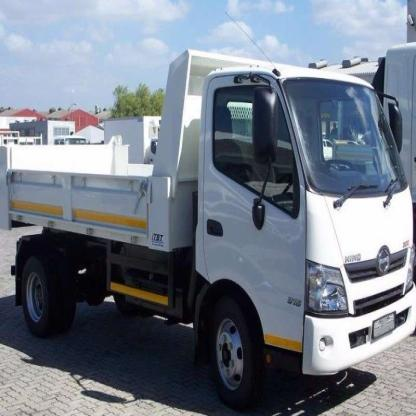dump_truck: (0, 41, 415, 407)
